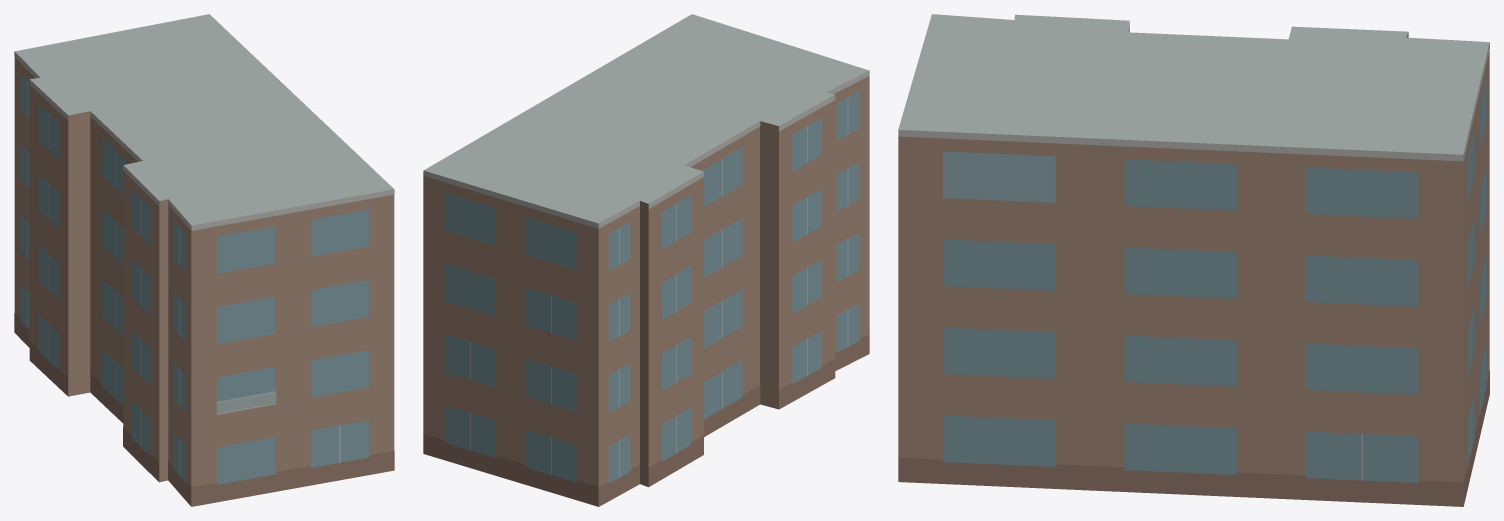
The model's file is survey-upis-32672200.glb.
3 views of the same model, side by side, from view 1: azimuth 30°, elevation 25°; view 2: azimuth 150°, elevation 25°; view 3: azimuth 270°, elevation 25° (orthographic). The views are drawn at different scales.
Visible parts, largest first — view 1: survey-upis-32672200.tmp; view 2: survey-upis-32672200.tmp; view 3: survey-upis-32672200.tmp.
Boxes of the visible parts, x1,y1,x2,y2 form: survey-upis-32672200.tmp: (14,14,394,506); survey-upis-32672200.tmp: (423,14,869,506); survey-upis-32672200.tmp: (898,14,1489,506).
Size of the model in its own units: 11.16 by 13 by 19.81.
